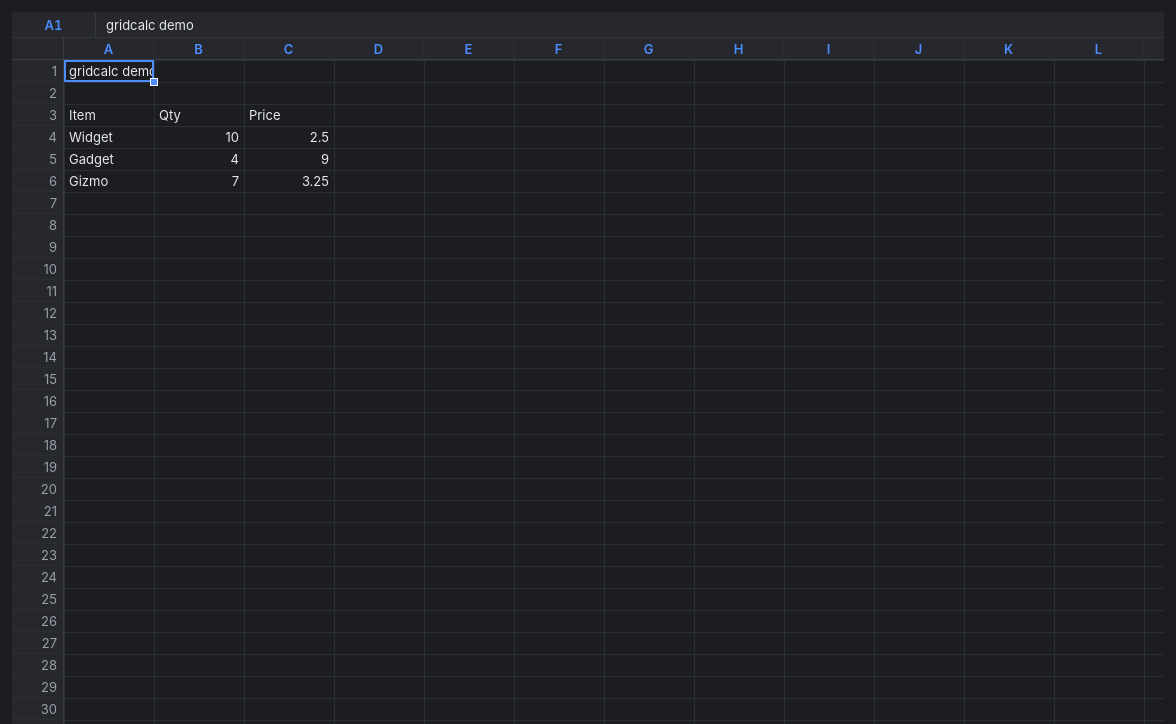
Test: editing a cell commits through set_cell
Check: the text "gridcalc demo" is shown, box [64,60,154,82]
Press Enter
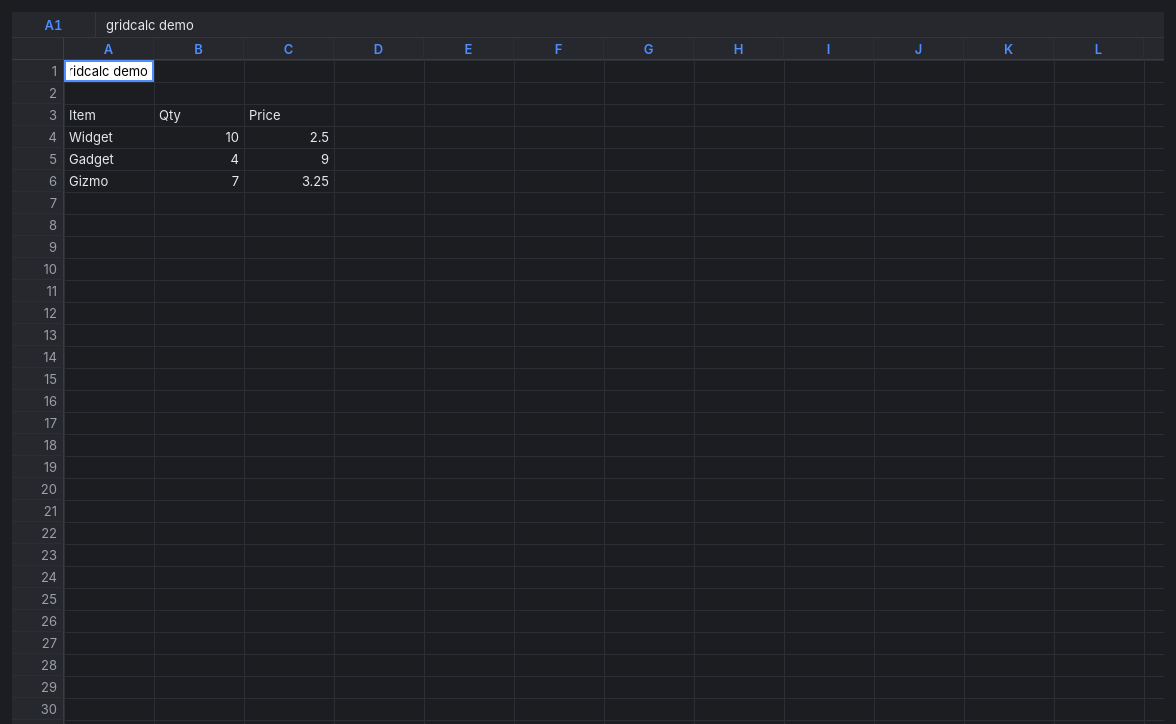
Check: the field with class "cell-editor" is shown
Replace the text in the field with class "cell-editor" with "42" at (109, 71), box [64,60,154,82]
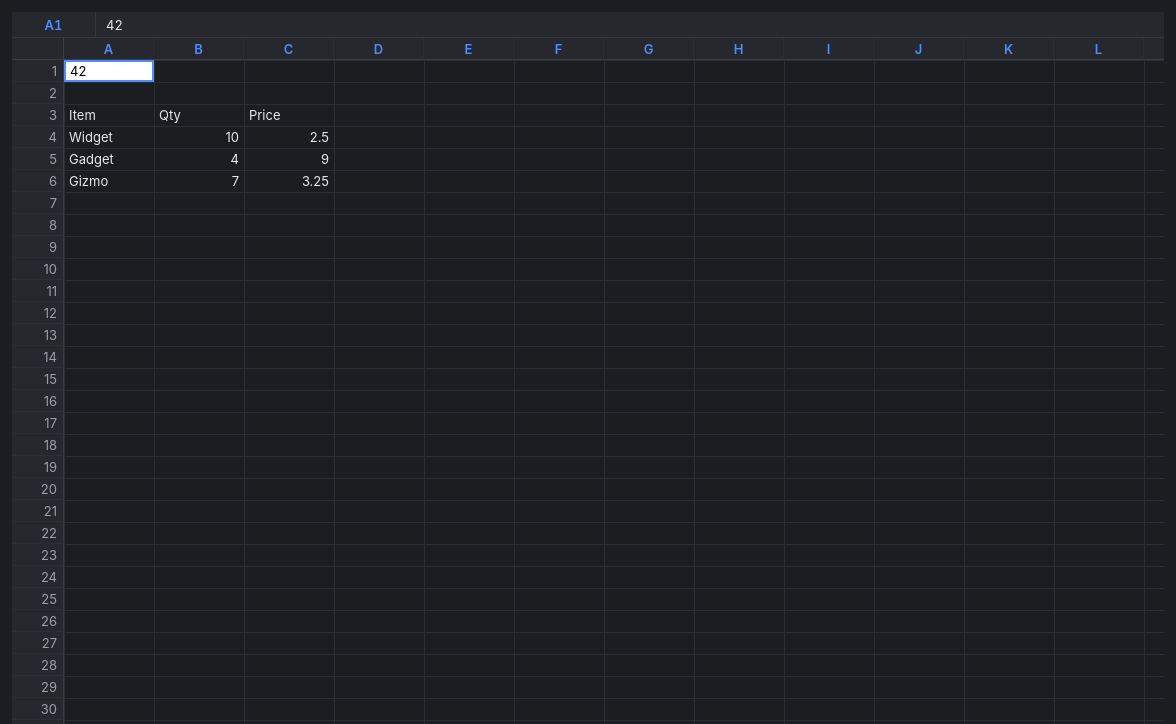
Press Enter
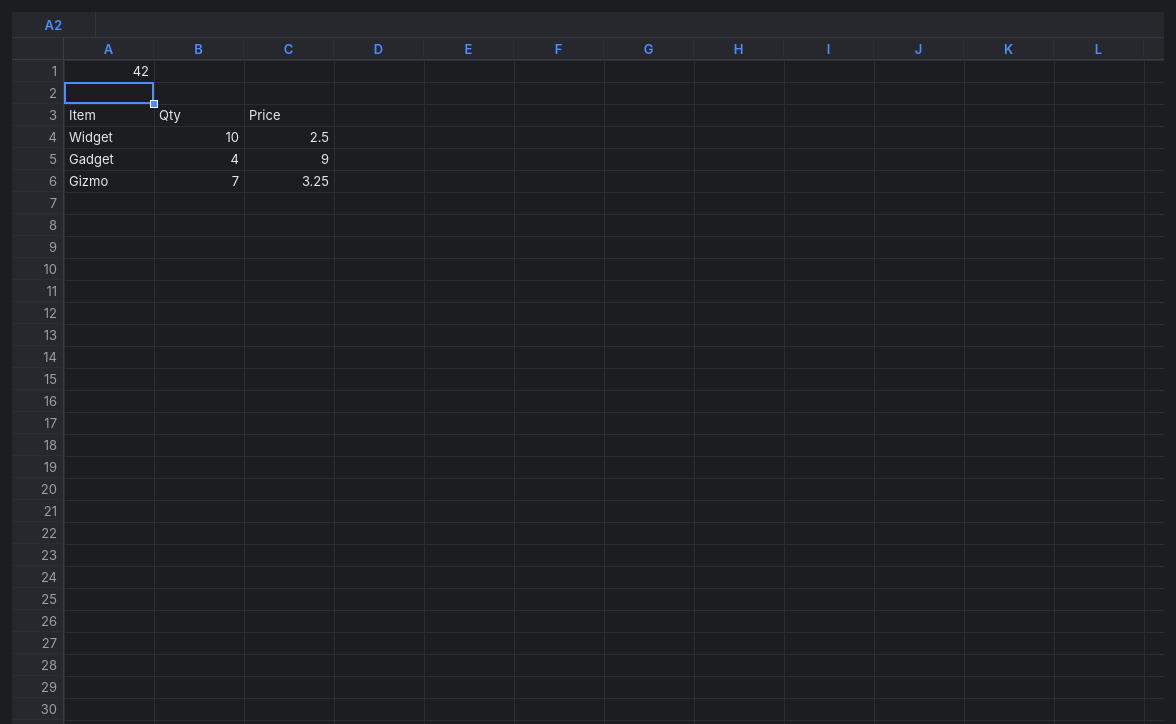
Check: the text "42" is shown, box [133,63,149,79]
Check: the text "gridcalc demo" is gone
